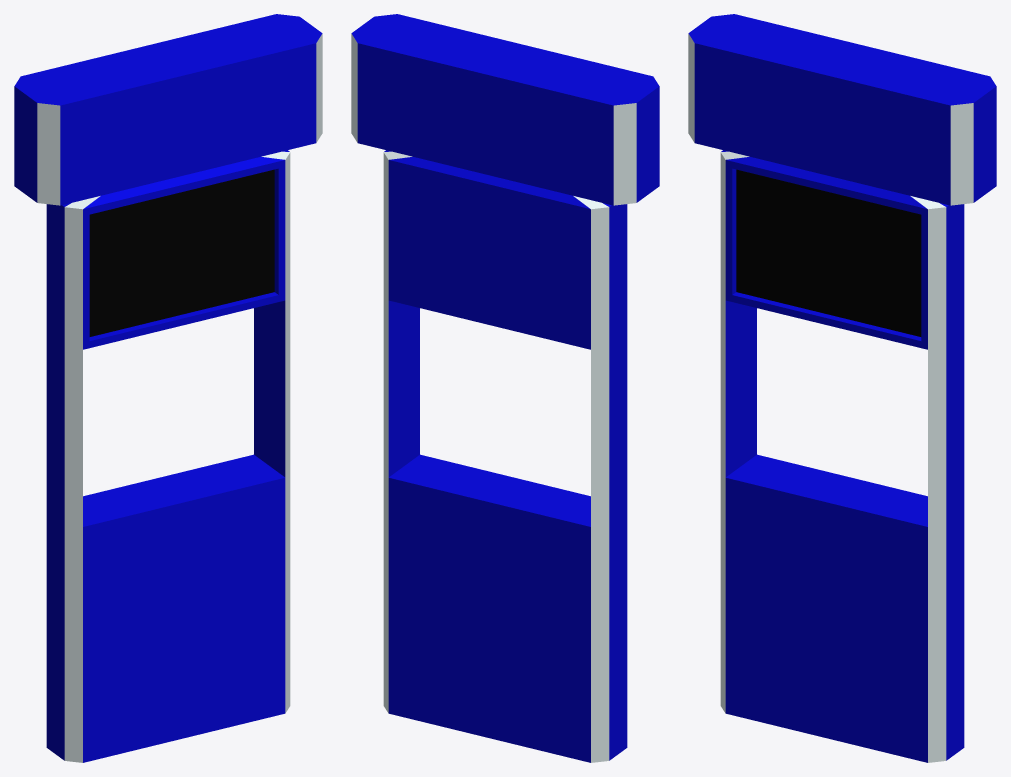
Rendered from tablo.fbx.
The picture shows the model from 3 angles, left to right: view 1: azimuth 30°, elevation 25°; view 2: azimuth 150°, elevation 25°; view 3: azimuth 330°, elevation 25°; orthographic projection.
Visible parts, largest first — view 1: Tablo.001, ekran, Tablo.002; view 2: Tablo.001, Tablo.002; view 3: Tablo.001, ekran, Tablo.002.
Boxes of the visible parts, box(x1,y1,x2,y2) form: Tablo.001: box(14, 14, 322, 762); ekran: box(89, 169, 274, 336); Tablo.002: box(37, 33, 322, 762); Tablo.001: box(351, 14, 659, 762); Tablo.002: box(351, 33, 636, 762); Tablo.001: box(688, 14, 996, 762); ekran: box(736, 169, 921, 336); Tablo.002: box(688, 33, 973, 762).
Bounding box in the file's own units: 253 × 565 × 61.09.
